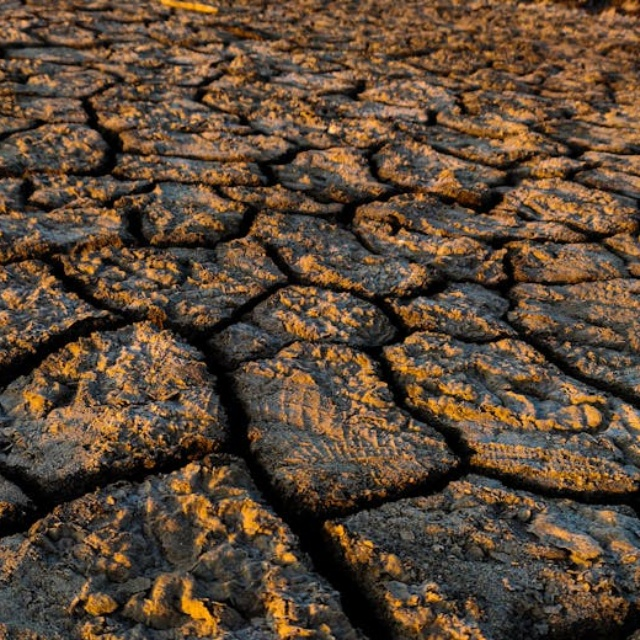深大裂缝: (150, 569, 565, 640)
网状裂隙: (0, 0, 640, 587)
